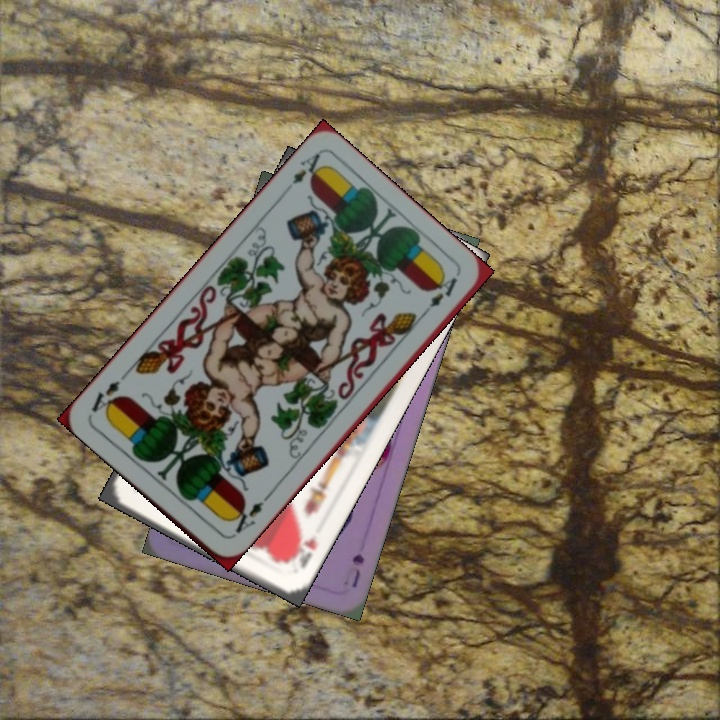EA: (278, 148, 327, 198), (225, 492, 272, 540)
HK: (283, 530, 320, 572)
SU: (347, 549, 367, 591)
